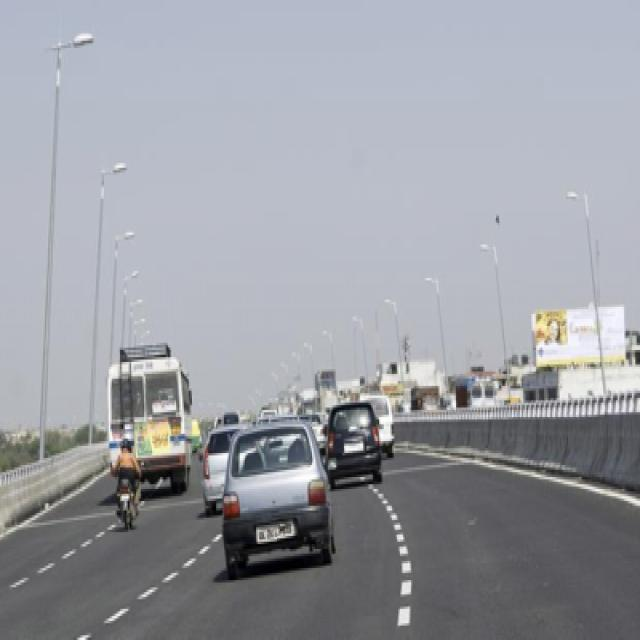licence: (254, 518, 298, 544)
